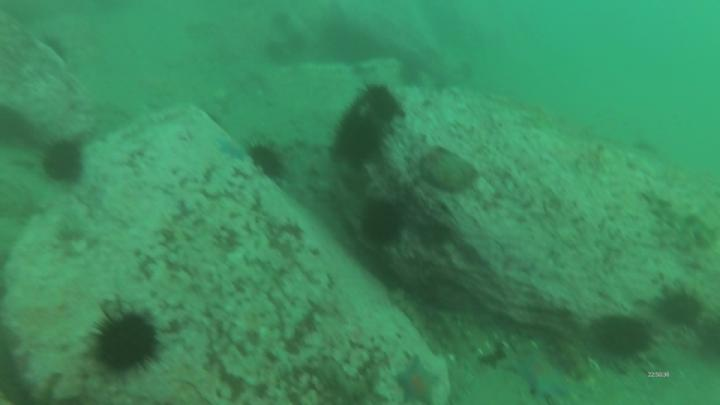echinus: (86, 302, 162, 380), (587, 314, 659, 366), (356, 196, 408, 248), (331, 117, 385, 166), (652, 285, 708, 332), (38, 137, 88, 189), (359, 82, 403, 129), (247, 141, 288, 183), (700, 315, 720, 366), (38, 35, 70, 63), (266, 42, 285, 63), (288, 31, 307, 51), (273, 12, 291, 27)
holothurian: (639, 188, 718, 252), (386, 284, 444, 352), (541, 331, 596, 386), (452, 309, 497, 362)
starfish: (507, 349, 577, 398), (394, 354, 443, 405), (213, 135, 250, 161)
